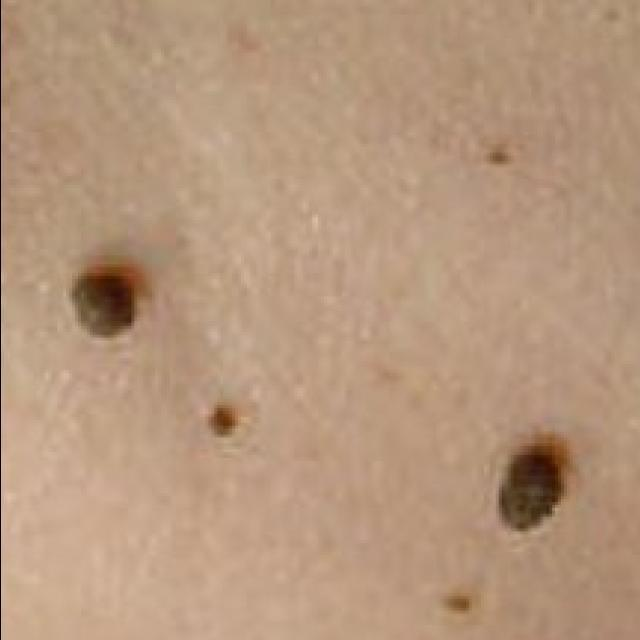wart: (498, 438, 572, 538), (71, 262, 148, 346), (207, 402, 243, 440)
